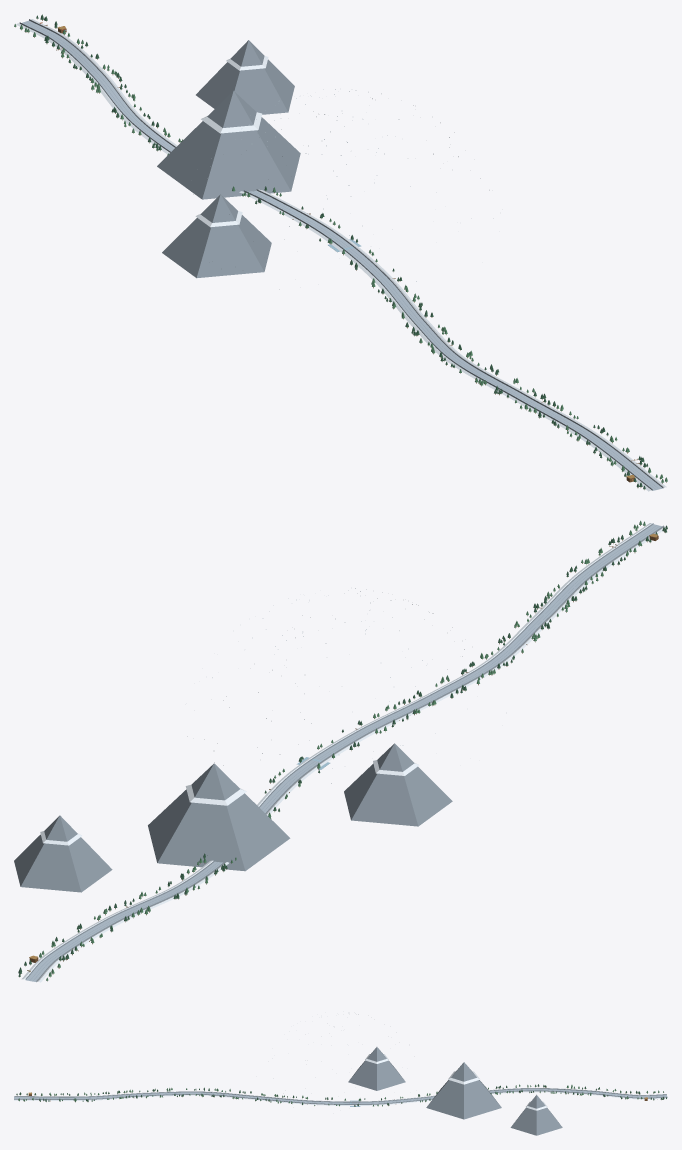
Rendered from Mush_Map_Forest_V2.fbx.
The picture shows the model from 3 angles, top to bottom: view 1: azimuth 30°, elevation 25°; view 2: azimuth 150°, elevation 25°; view 3: azimuth 270°, elevation 25°; orthographic projection. The views are drawn at different scales.
Parts seen in each view (by area): view 1: LM_MountainSilhouette; view 2: LM_MountainSilhouette; view 3: LM_MountainSilhouette.
Boxes of the visible parts, x1,y1,x2,y2 form: LM_MountainSilhouette: [157, 40, 300, 278]; LM_MountainSilhouette: [14, 743, 452, 892]; LM_MountainSilhouette: [348, 1047, 562, 1135].
Size of the model in its own units: 23453 by 12092 by 90110.
